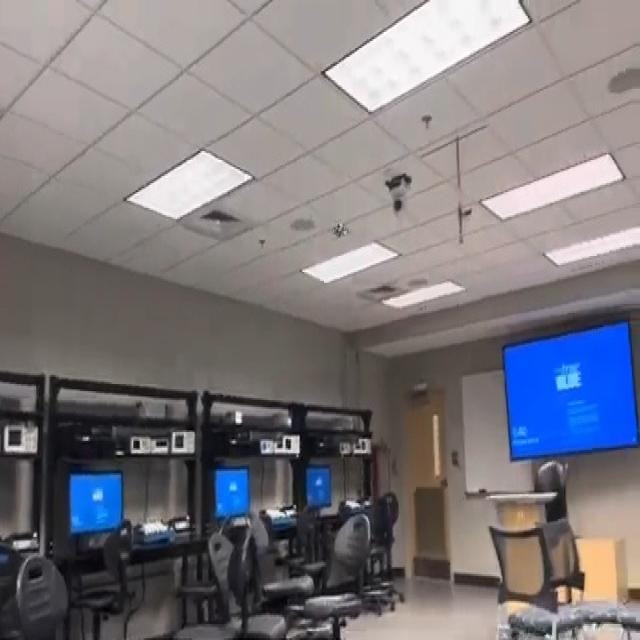drone: (326, 205, 359, 259)
